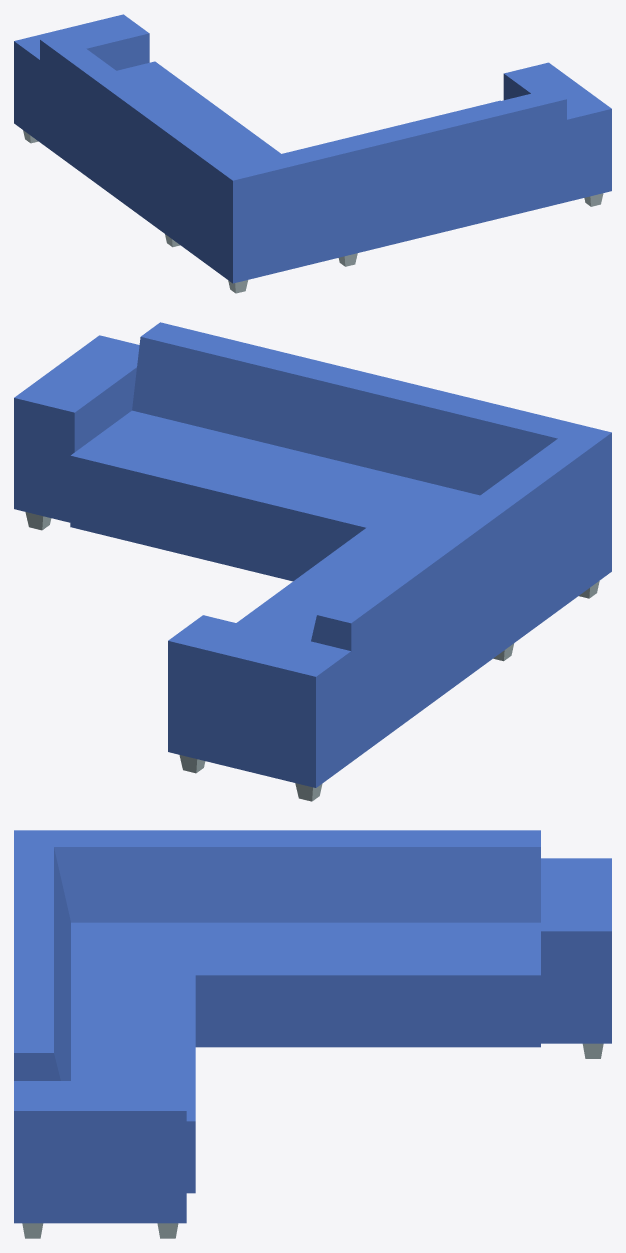
The model's file is Lounge Design Sofa Corn.glb.
3 renders of one model, top to bottom at view 1: azimuth 30°, elevation 25°; view 2: azimuth 150°, elevation 25°; view 3: azimuth 270°, elevation 25°, orthographic. The views are drawn at different scales.
Visible parts, largest first — view 1: loungeDesignSofaCorner; view 2: loungeDesignSofaCorner; view 3: loungeDesignSofaCorner.
Boxes of the visible parts, x1,y1,x2,y2 form: loungeDesignSofaCorner: (14,14,611,293); loungeDesignSofaCorner: (14,322,611,801); loungeDesignSofaCorner: (14,830,611,1238).
Bounding box in the file's own units: 1.35 × 0.4 × 1.35.
